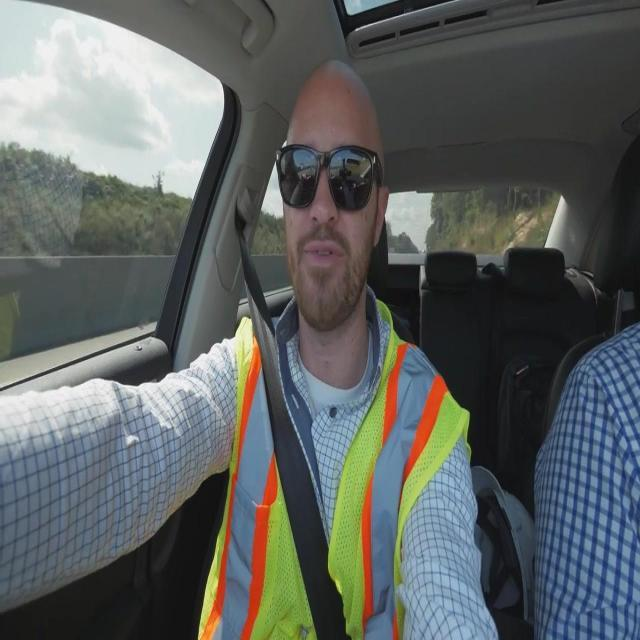reflective_jacket: (191, 304, 469, 639)
